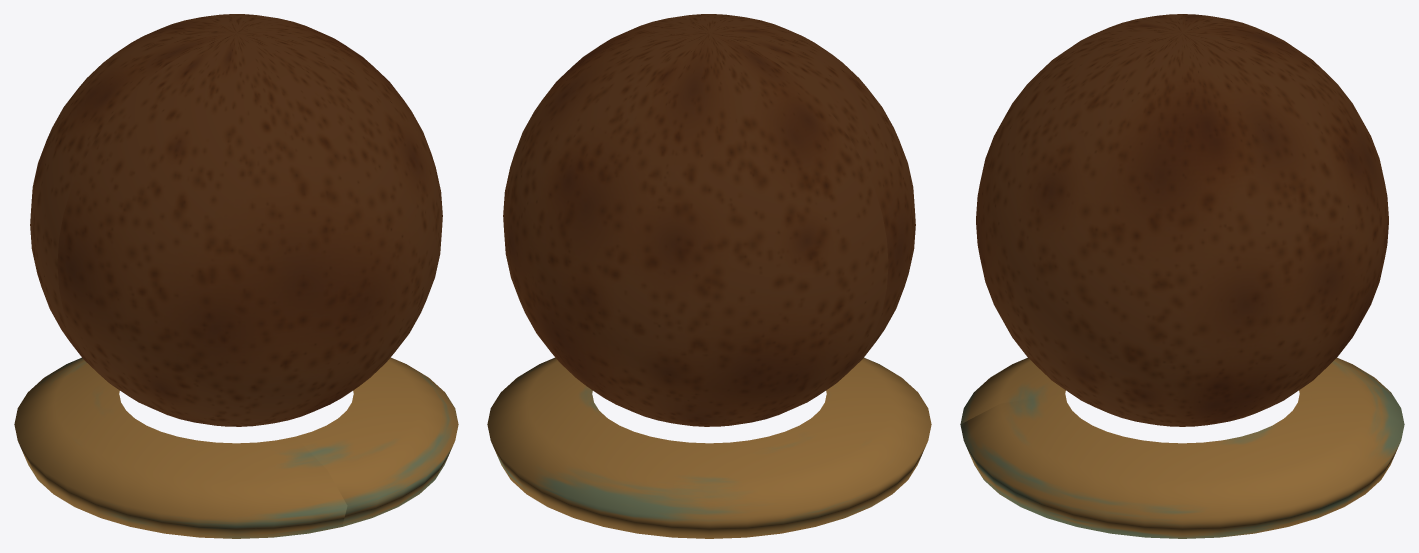
Rendered from moon_lamp.glb.
The picture shows the model from 3 angles, left to right: view 1: azimuth 30°, elevation 25°; view 2: azimuth 150°, elevation 25°; view 3: azimuth 270°, elevation 25°; orthographic projection.
Parts seen in each view (by area): view 1: moon_lamp; view 2: moon_lamp; view 3: moon_lamp.
Boxes of the visible parts, box(x1,y1,x2,y2) form: moon_lamp: box(14, 14, 458, 538); moon_lamp: box(487, 14, 931, 538); moon_lamp: box(960, 14, 1404, 538).
Bounding box in the file's own units: 0.288 × 0.298 × 0.288.
Materials: 2 (2 with a texture image).
